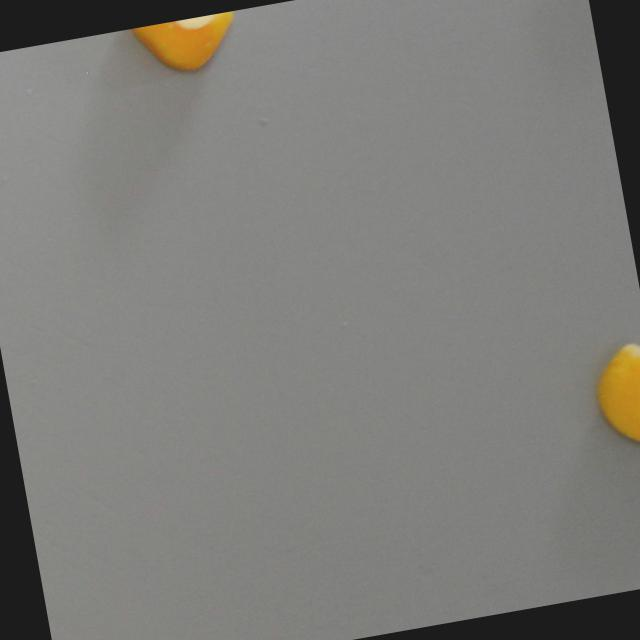no_canjicado: (127, 11, 242, 82)
